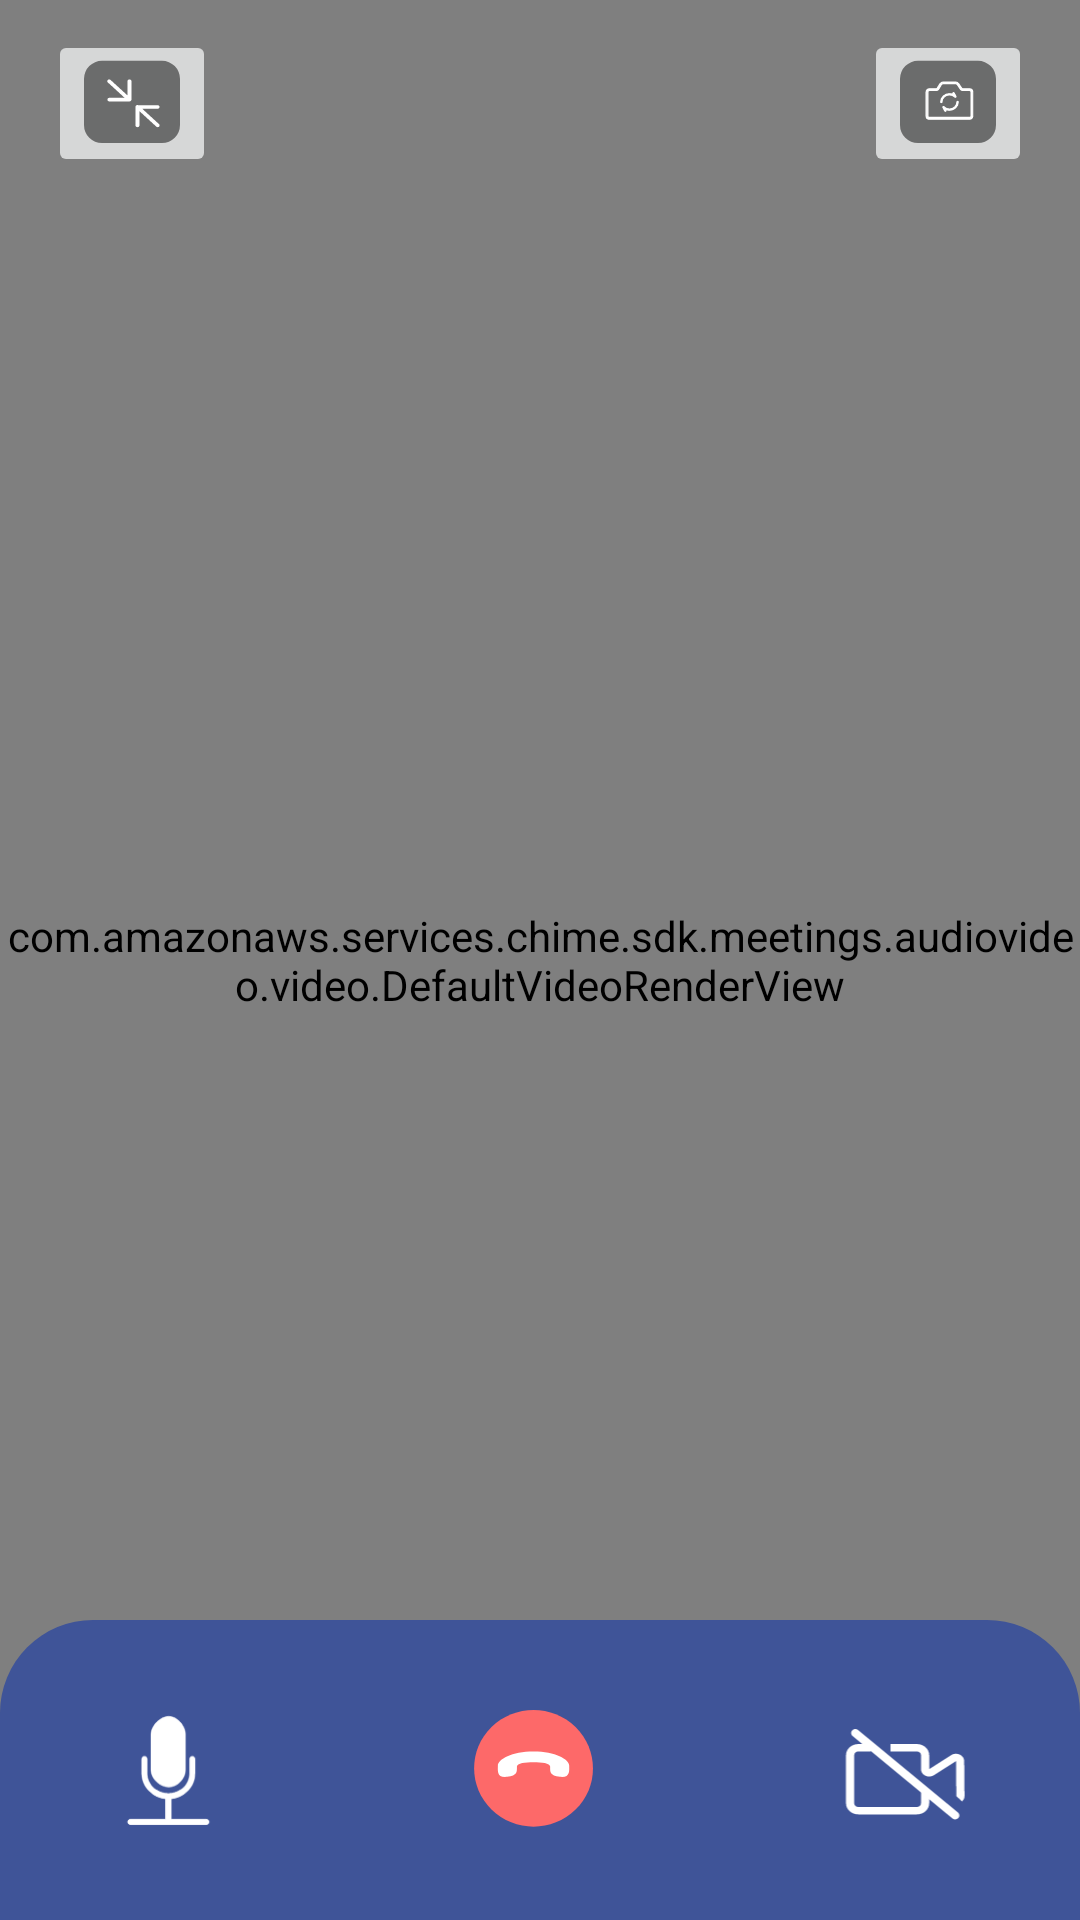

Locate icon controls on the screen. Image size 1080 x 1920, boxes as [x1=x1, y1=y1, x2=x2, y2=y2].
flip: [x1=876, y1=48, x2=1020, y2=159]
full screen: [x1=60, y1=48, x2=204, y2=159]
microphone: [x1=127, y1=1716, x2=210, y2=1825]
phone: [x1=474, y1=1710, x2=593, y2=1827]
video call: [x1=845, y1=1729, x2=965, y2=1820]
